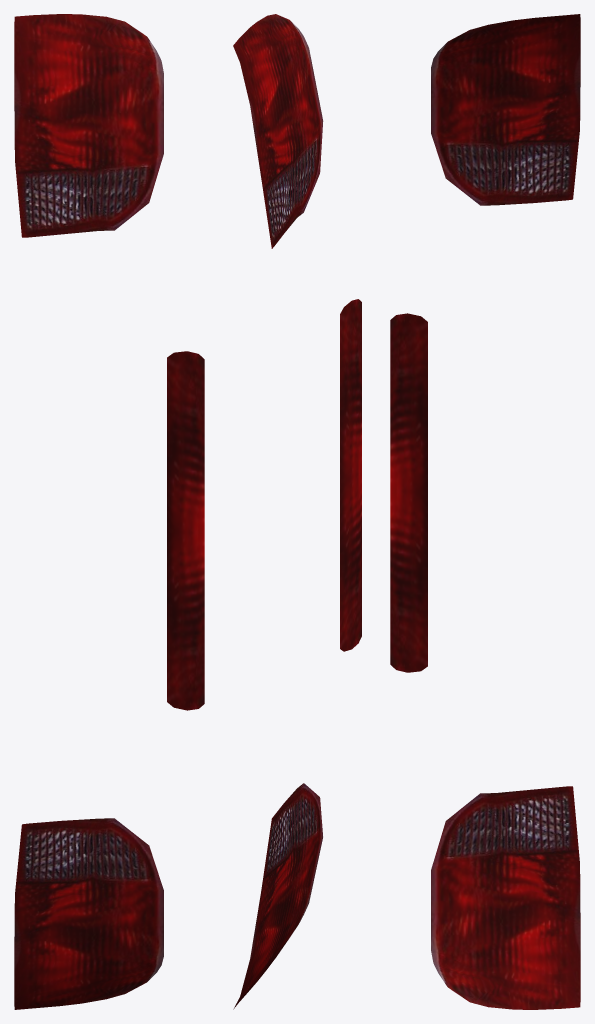
The model's file is brakes_on.obj.
3 renders of one model, left to right at view 1: azimuth 90°, elevation 25°; view 2: azimuth 150°, elevation 25°; view 3: azimuth 270°, elevation 25°, orthographic. The views are drawn at different scales.
Visible parts, largest first — view 1: all; view 2: all; view 3: all.
Boxes of the visible parts, box(x1,y1,x2,y2) form: all: box(14, 14, 204, 1009); all: box(233, 14, 361, 1009); all: box(390, 14, 580, 1009).
Size of the model in its own units: 0.0813 by 1.51 by 0.262.
Materials: 1 (1 with a texture image).
